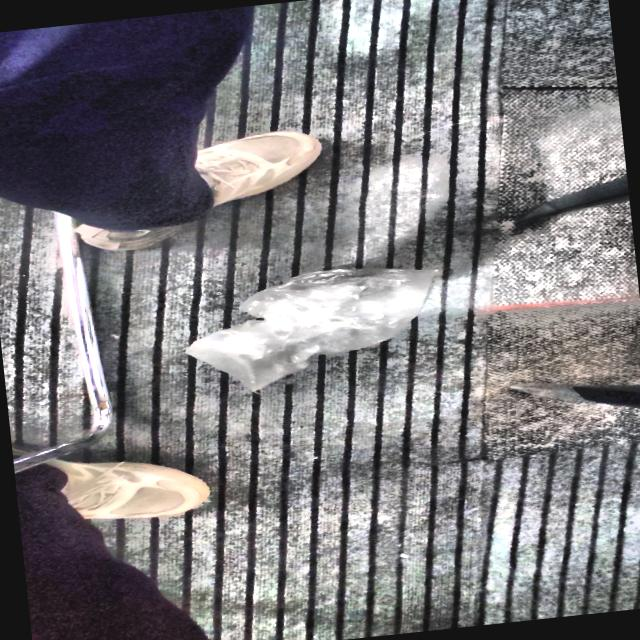plastic bag: (187, 267, 439, 390)
